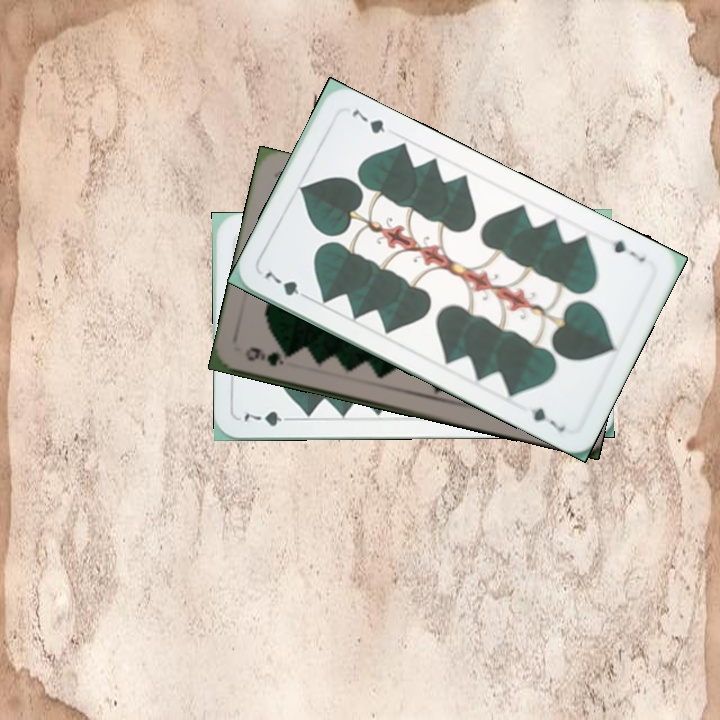G7: (260, 267, 313, 301), (240, 407, 297, 429), (609, 235, 649, 265)
G9: (241, 343, 287, 369)
